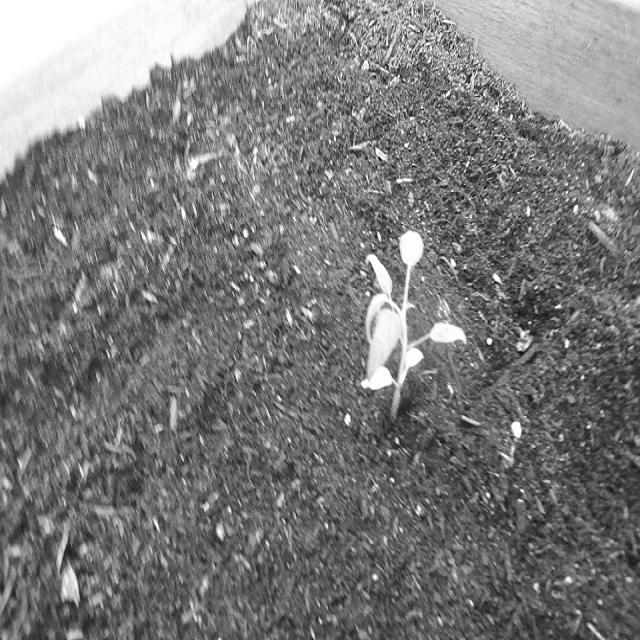Healthy: (355, 221, 472, 438)
